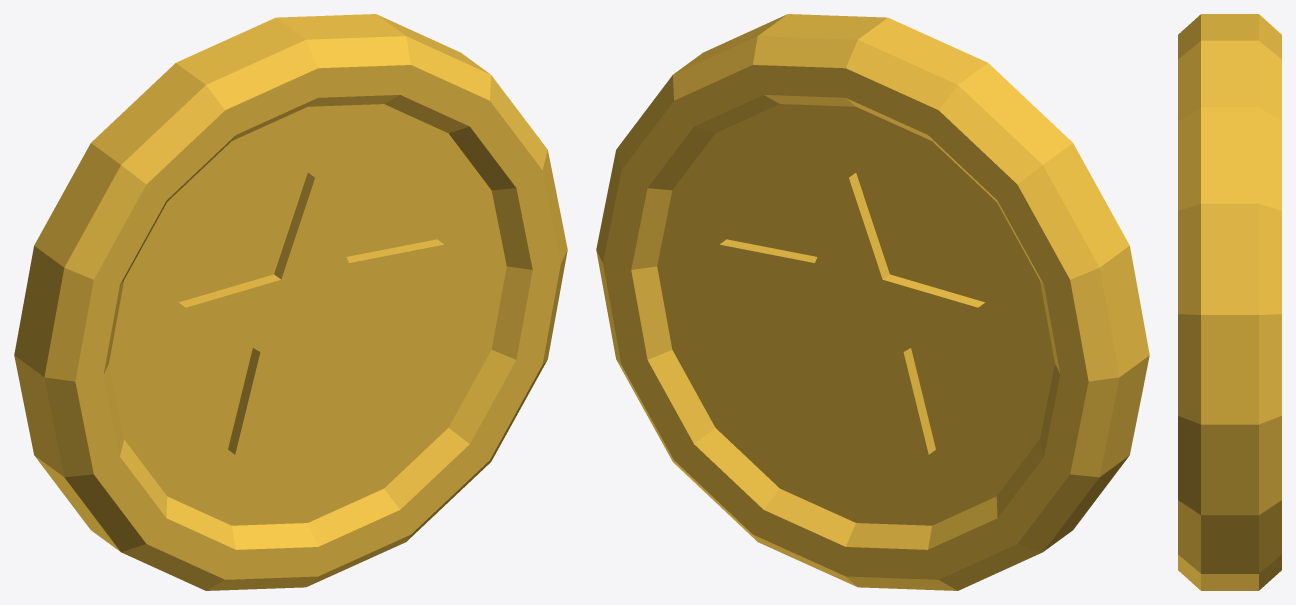
The model's file is coin.obj.
3 views of the same model, side by side, from view 1: azimuth 30°, elevation 25°; view 2: azimuth 150°, elevation 25°; view 3: azimuth 270°, elevation 25° (orthographic). The views are drawn at different scales.
Visible parts, largest first — view 1: coin; view 2: coin; view 3: coin.
Part boxes in pixels (left/top/right/bottom): coin: left=14, top=14, right=567, bottom=590; coin: left=596, top=14, right=1149, bottom=590; coin: left=1178, top=14, right=1281, bottom=590.
Size of the model in its own units: 0.5 by 0.5 by 0.09.
